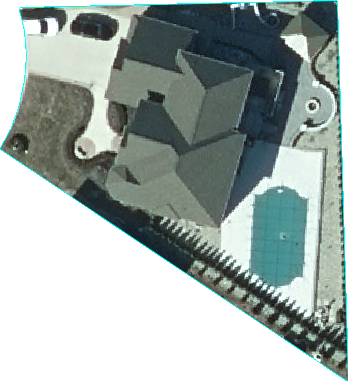house: (102, 11, 257, 231)
